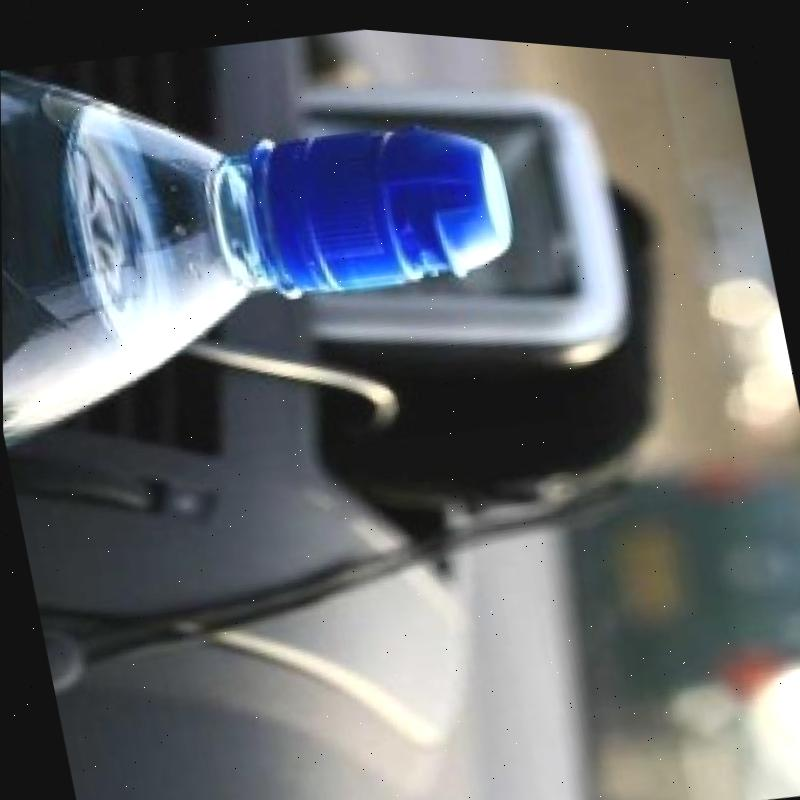botella: (0, 0, 545, 485)
